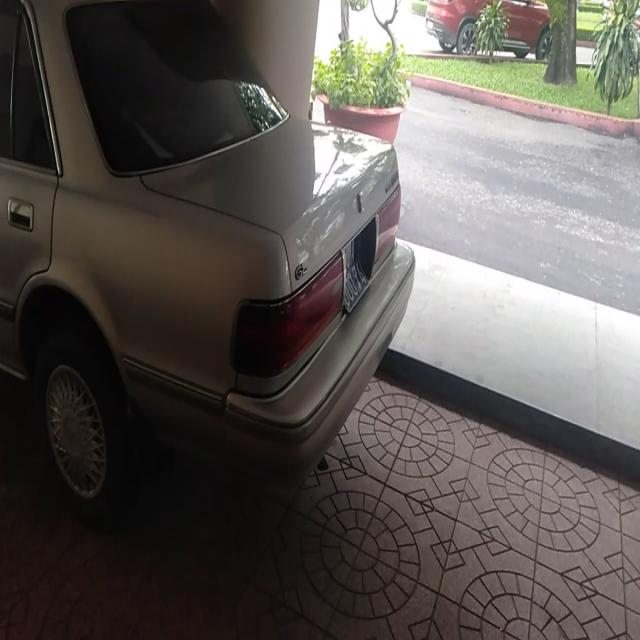bien_xanh: (337, 231, 373, 313)
